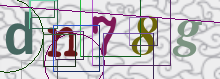7: (91, 14, 117, 57)
8: (131, 15, 158, 55)
d: (5, 9, 33, 55)
g: (172, 19, 203, 60)
n: (46, 25, 77, 57)
